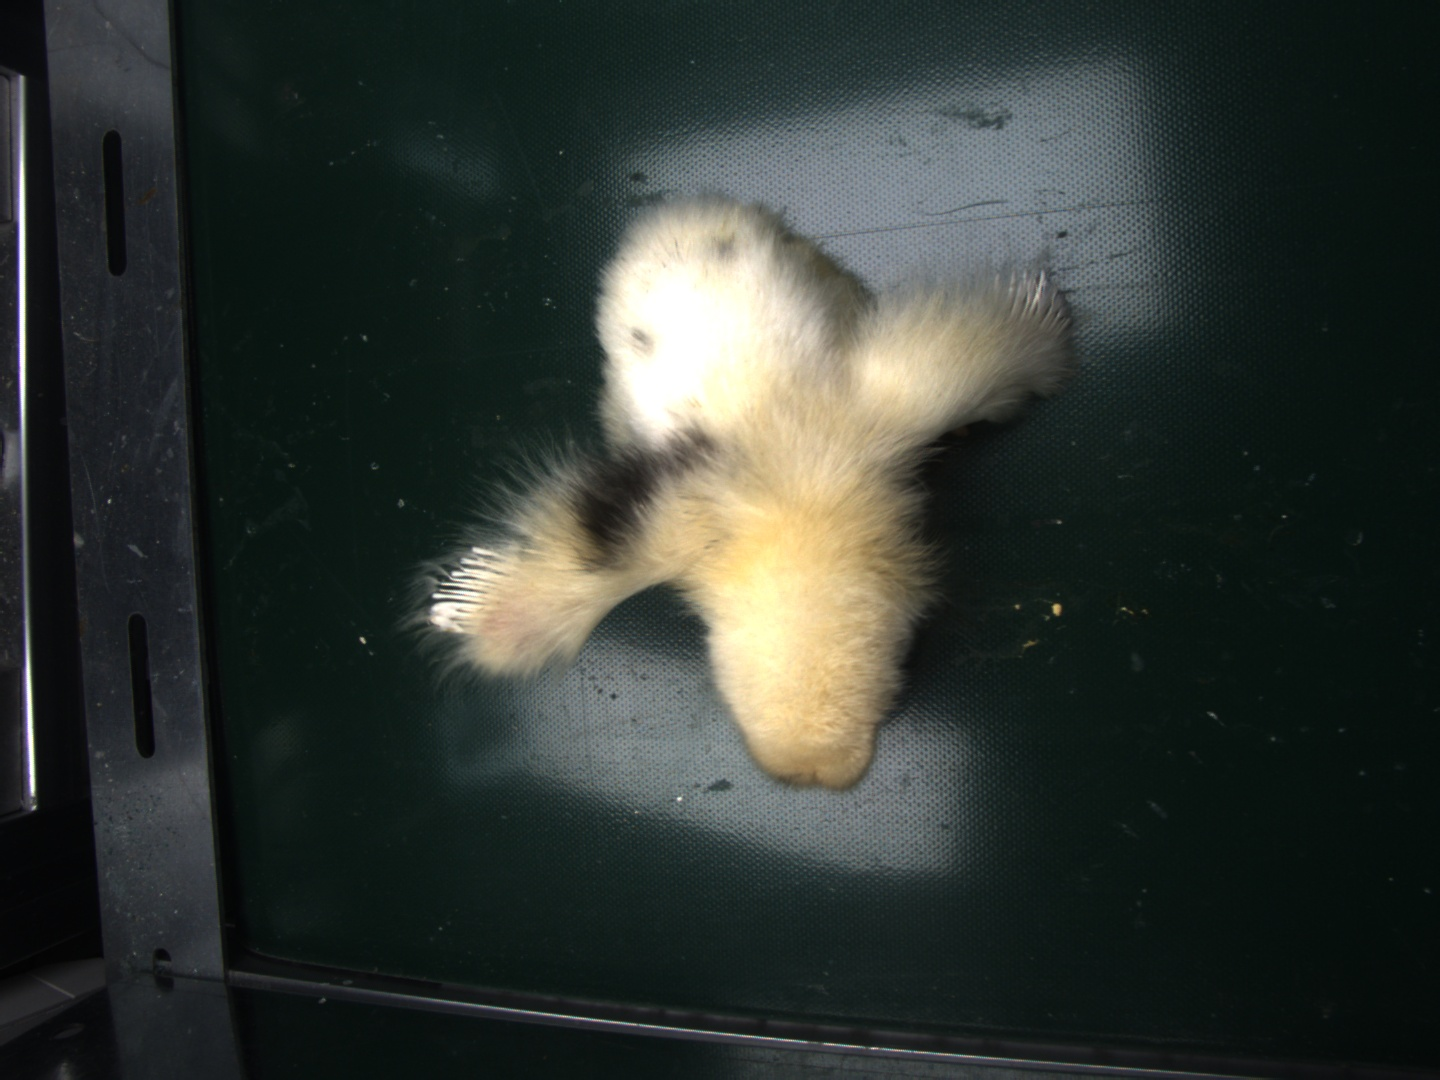male: (426, 539, 516, 638)
